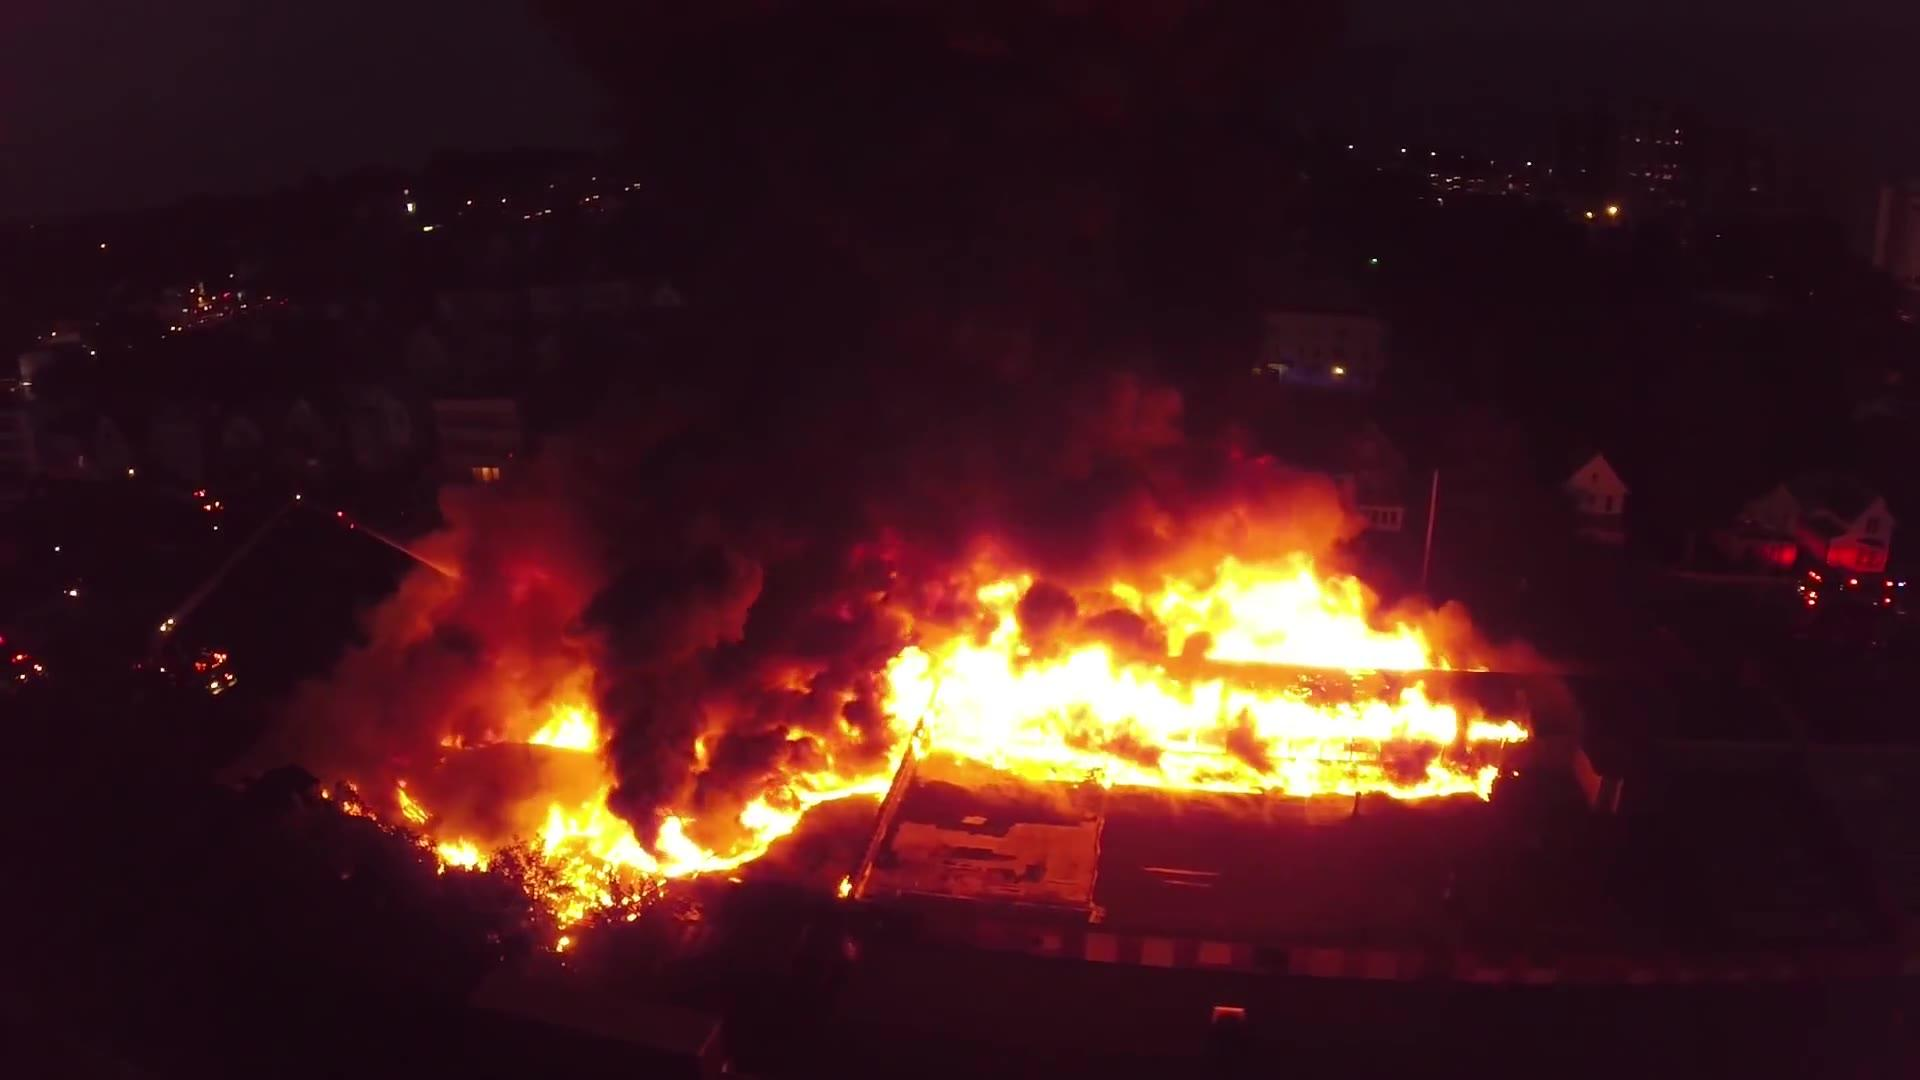fire: (920, 566, 1458, 818), (512, 682, 626, 878)
smoke: (659, 531, 829, 692)
